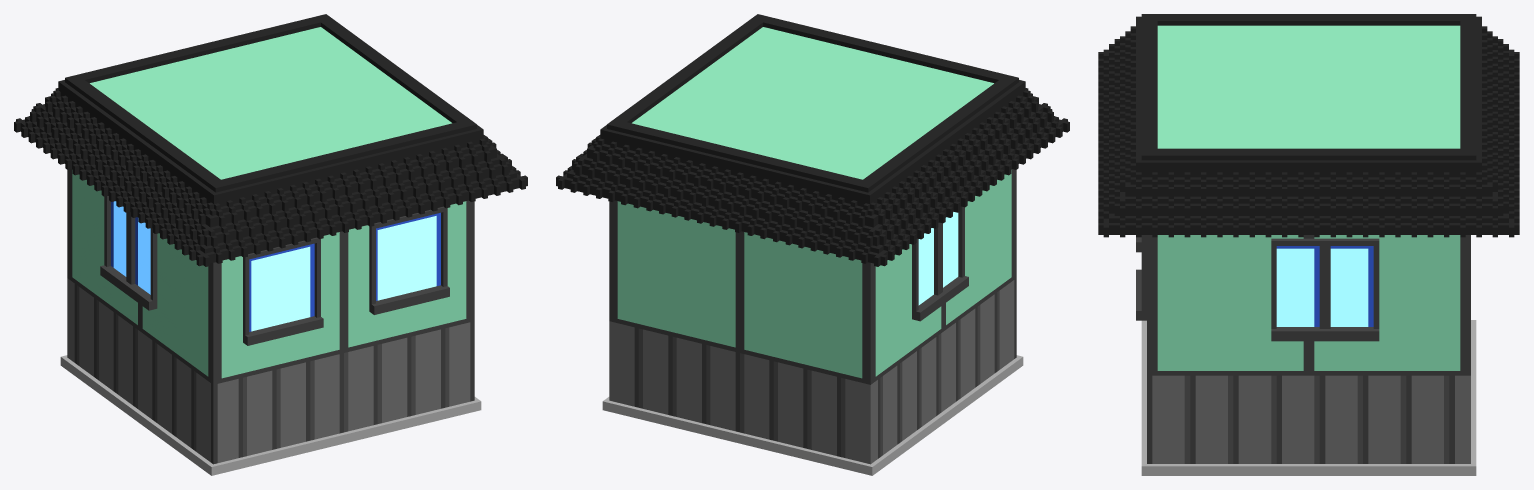
The model's file is typeFourteen.glb.
The picture shows the model from 3 angles, left to right: view 1: azimuth 30°, elevation 25°; view 2: azimuth 150°, elevation 25°; view 3: azimuth 270°, elevation 25°; orthographic projection. The views are drawn at different scales.
Visible parts, largest first — view 1: ObjObject; view 2: ObjObject; view 3: ObjObject.
Boxes of the visible parts, box(x1,y1,x2,y2) form: ObjObject: box(14, 14, 527, 475); ObjObject: box(556, 14, 1069, 475); ObjObject: box(1098, 14, 1519, 475).
Bounding box in the file's own units: 7.8 × 6.5 × 7.8.
Materials: 2 (1 with a texture image).
